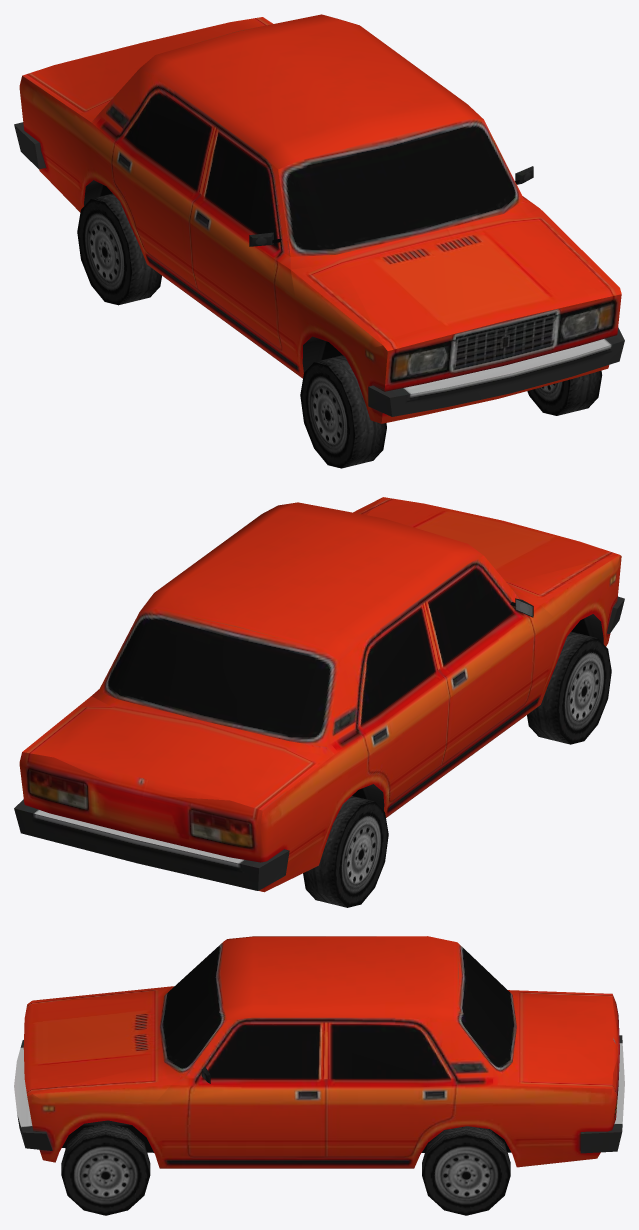
The model's file is oldsedan.glb.
3 views of the same model, one above another, from view 1: azimuth 30°, elevation 25°; view 2: azimuth 150°, elevation 25°; view 3: azimuth 270°, elevation 25° (orthographic). The views are drawn at different scales.
Visible parts, largest first — view 1: Object_214; view 2: Object_214; view 3: Object_214.
Boxes of the visible parts, x1,y1,x2,y2 form: Object_214: (14, 14, 624, 468); Object_214: (14, 497, 624, 907); Object_214: (14, 936, 624, 1215).
Size of the model in its own units: 1.78 by 1.5 by 4.1.
Materials: 1 (1 with a texture image).
